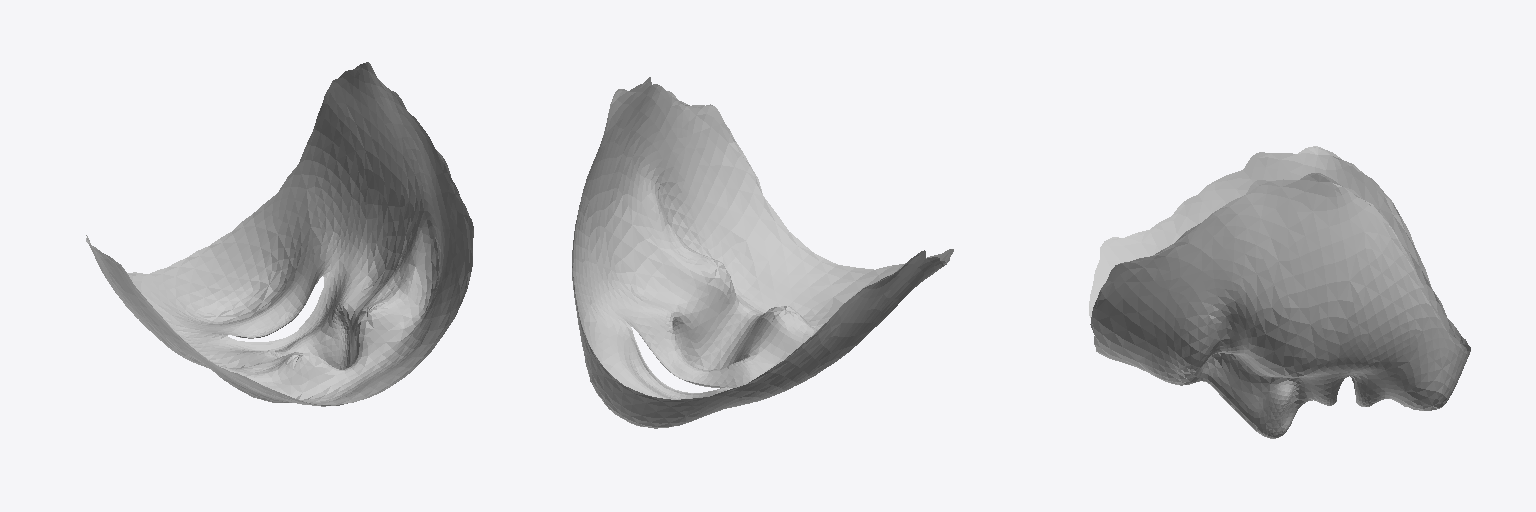
Rendered from face_gab_sfm11.obj.
The picture shows the model from 3 angles: view 1: azimuth 30°, elevation 25°; view 2: azimuth 150°, elevation 25°; view 3: azimuth 270°, elevation 25°; orthographic projection.
Bounding box in the file's own units: 163 × 153 × 179.